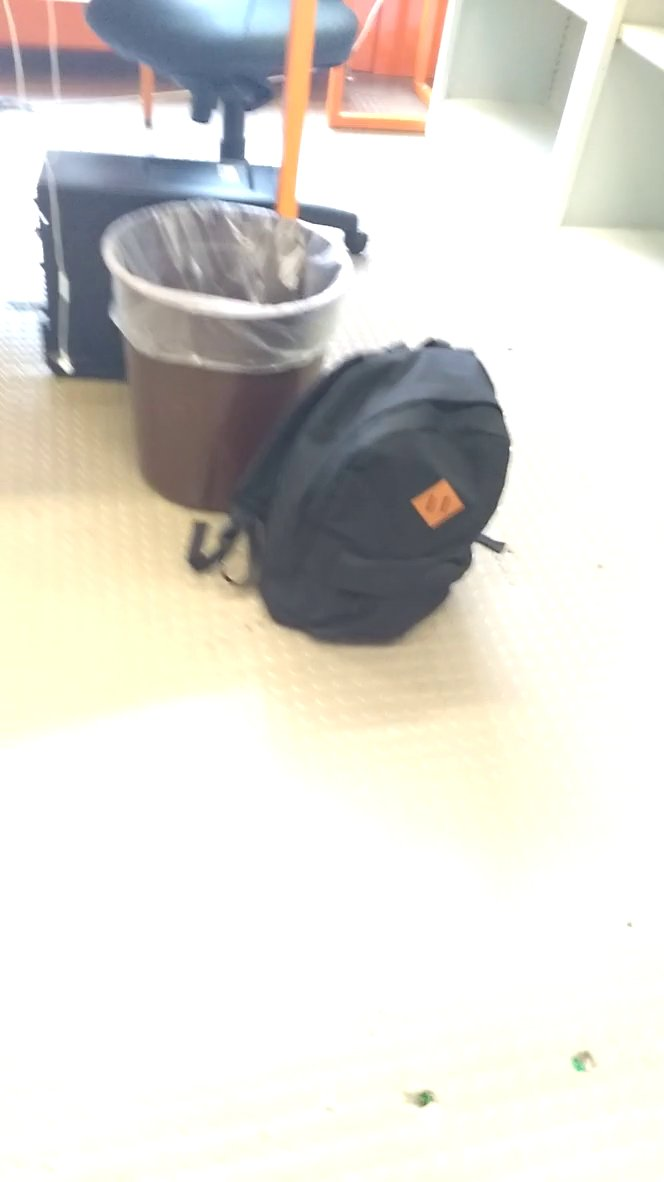bag: (182, 329, 520, 655)
bin: (86, 190, 349, 516)
chair: (79, 1, 371, 168)
